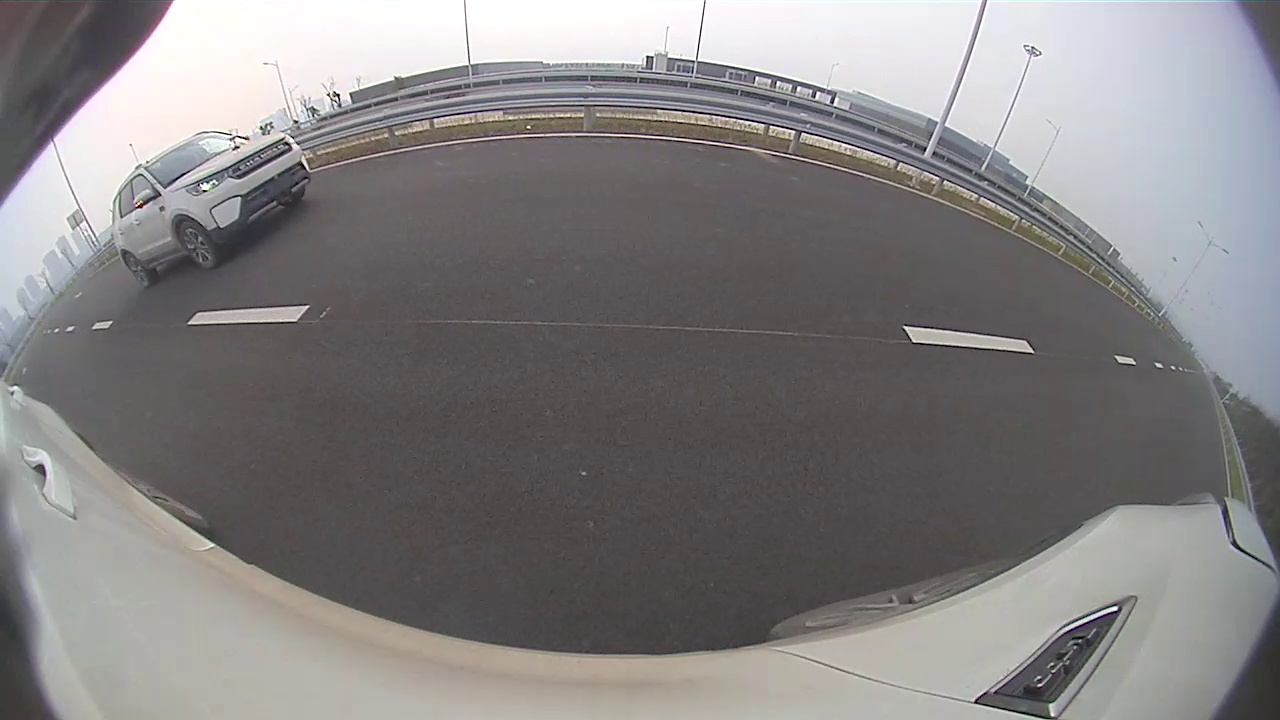car: (71, 143, 428, 385)
front: (385, 202, 424, 261)
rear: (179, 272, 268, 370)
